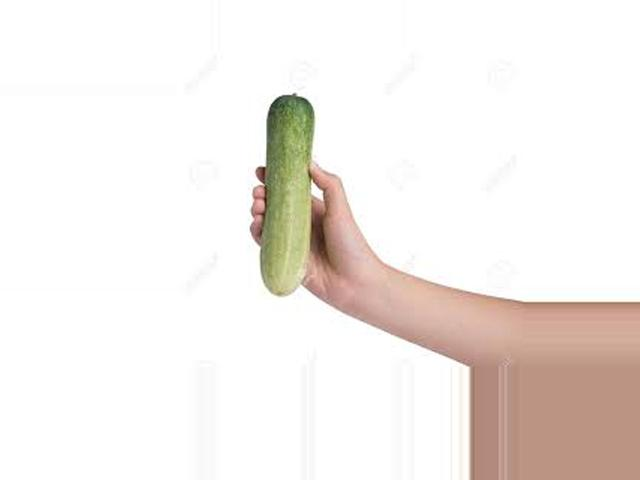cucumber: (262, 92, 317, 298)
